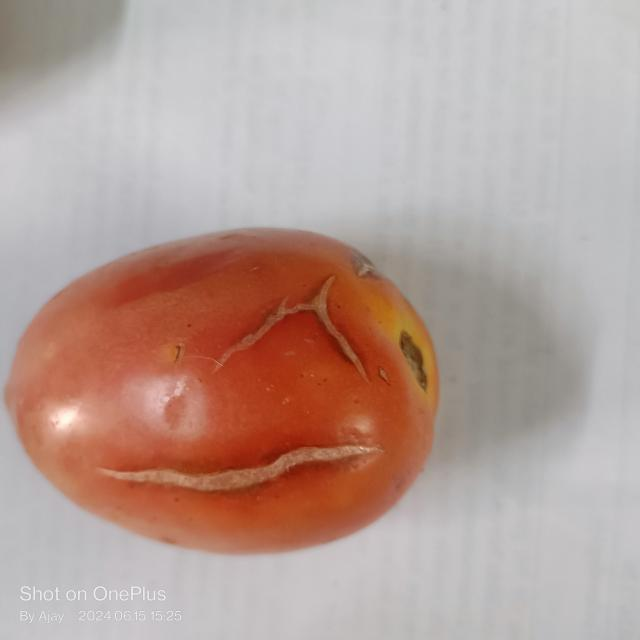tomato_cracking: (229, 258, 372, 375), (89, 440, 393, 493)
